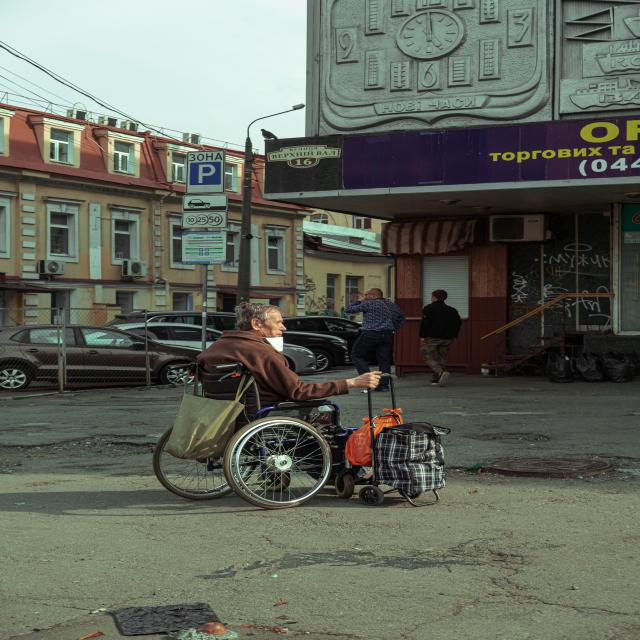wheelchairs: (157, 361, 363, 501)
